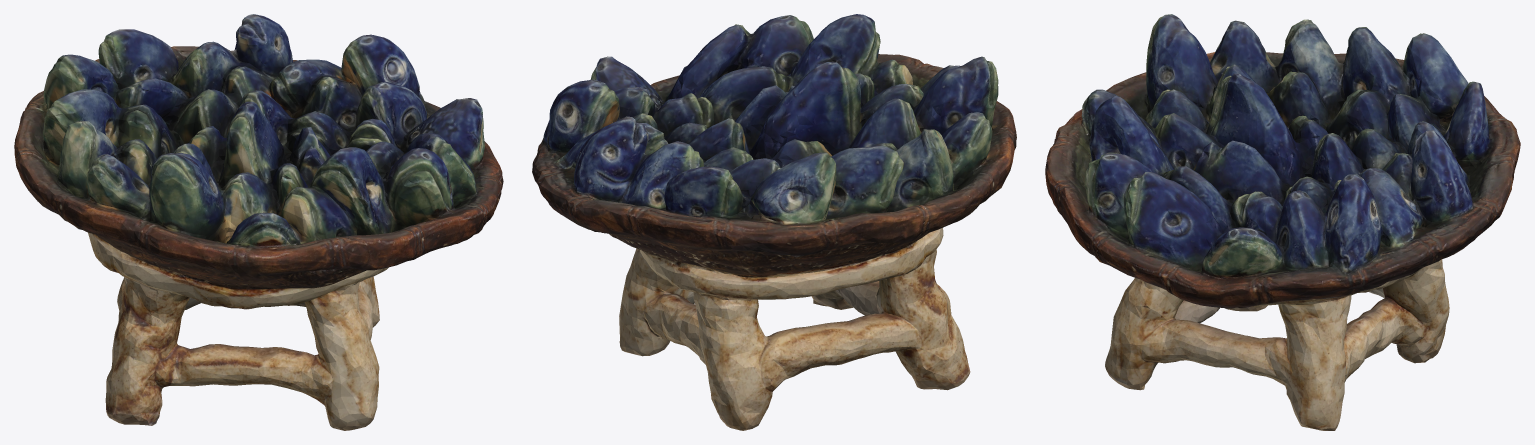
The model's file is KojiP0053.glb.
3 renders of one model, left to right at view 1: azimuth 30°, elevation 25°; view 2: azimuth 150°, elevation 25°; view 3: azimuth 270°, elevation 25°, orthographic. The views are drawn at different scales.
Visible parts, largest first — view 1: No.70; view 2: No.70; view 3: No.70.
Boxes of the visible parts, x1=… form: No.70: x1=14, y1=14, x2=503, y2=430; No.70: x1=532, y1=14, x2=1016, y2=430; No.70: x1=1045, y1=14, x2=1520, y2=430.
Bounding box in the file's own units: 3.98 × 2.69 × 3.99.
Materials: 1 (1 with a texture image).
